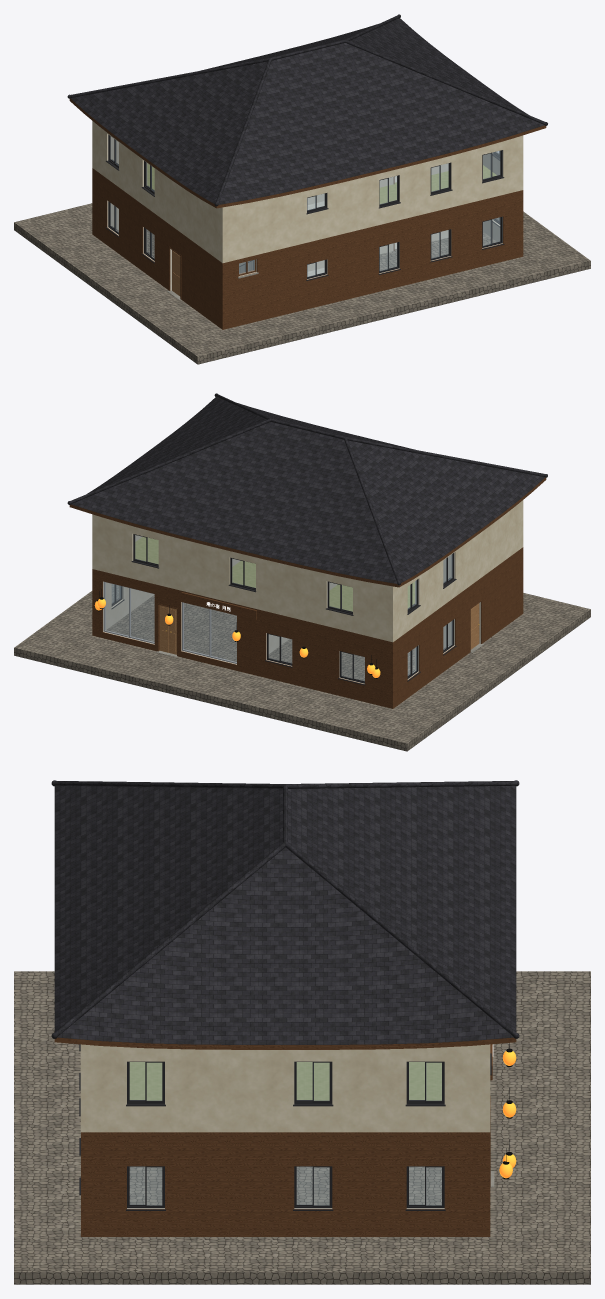
File: b_jp_ryokan.gltf
3 views of the same model, one above another, from view 1: azimuth 30°, elevation 25°; view 2: azimuth 150°, elevation 25°; view 3: azimuth 270°, elevation 25° (orthographic). The views are drawn at different scales.
Visible parts, largest first — view 1: S_jp_ryokan; view 2: S_jp_ryokan; view 3: S_jp_ryokan.
Part boxes in pixels (x1,y1,x2,y2): S_jp_ryokan: (14, 14, 590, 364); S_jp_ryokan: (14, 393, 590, 751); S_jp_ryokan: (14, 780, 590, 1284).
Bounding box in the file's own units: 21 × 10.46 × 17.
Materials: 22 (12 with a texture image).
